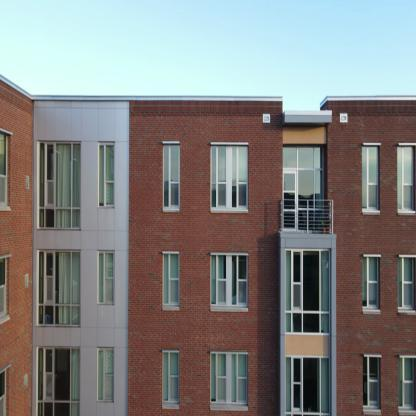Wolf Ridge: (0, 44, 415, 407)
